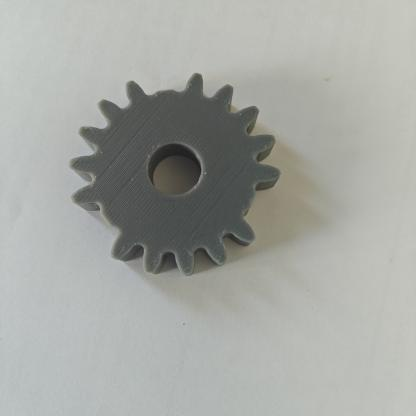defect: (224, 165, 288, 252), (61, 192, 135, 262), (124, 62, 208, 122)
gear: (42, 52, 310, 304)
